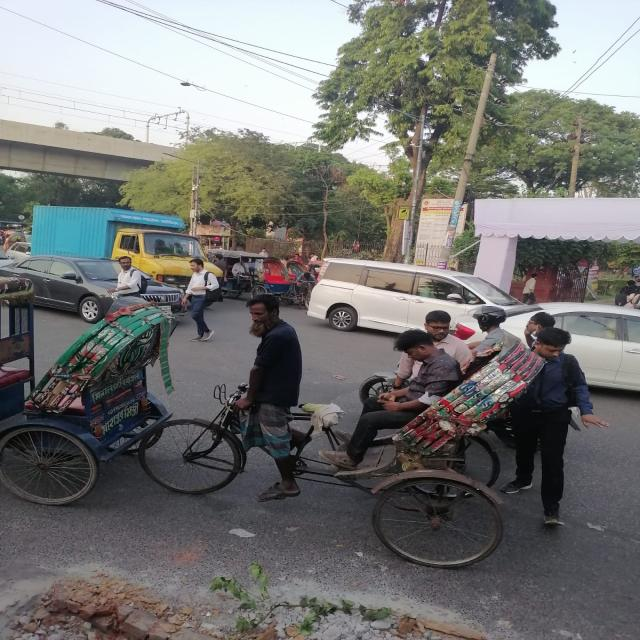person: (500, 327, 608, 526), (389, 310, 472, 398), (182, 258, 220, 342), (109, 256, 142, 295)
